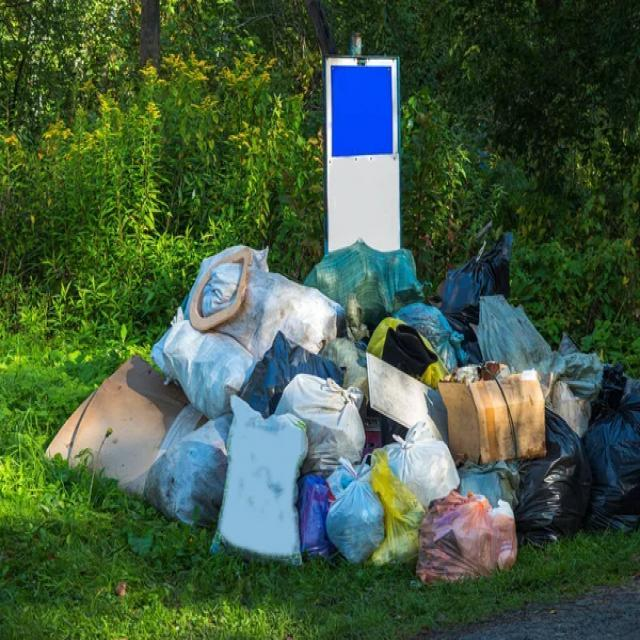garbage: (43, 238, 640, 608)
